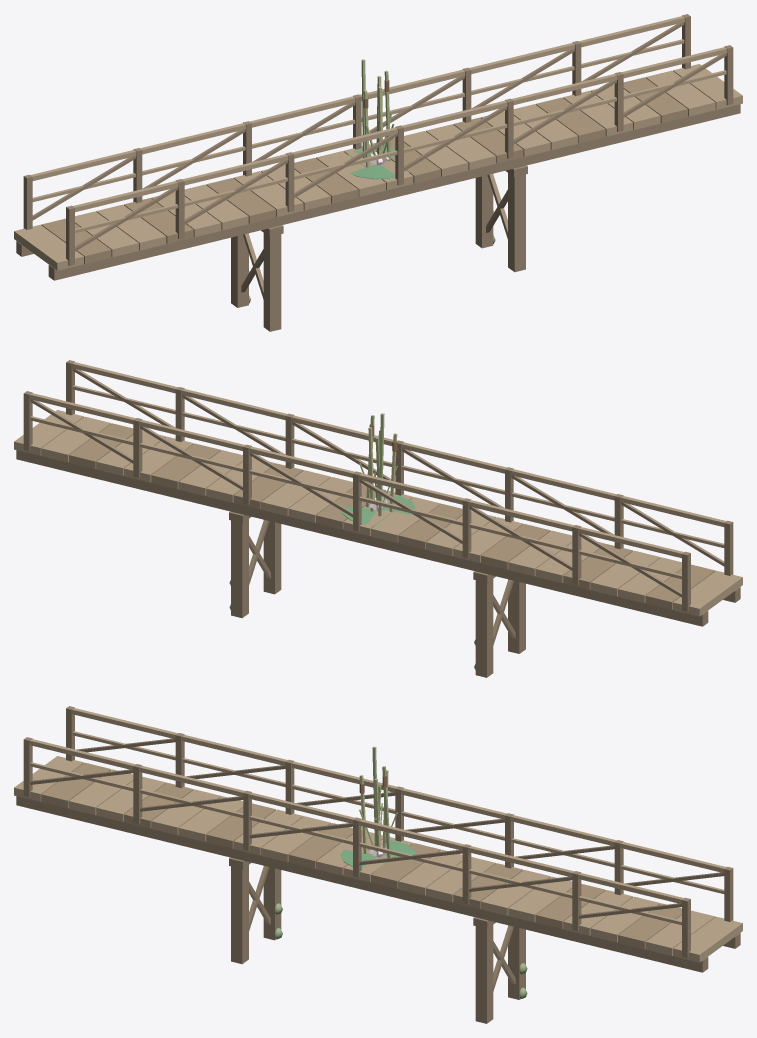
Rendered from farm_waters.glb.
3 views of the same model, one above another, from view 1: azimuth 30°, elevation 25°; view 2: azimuth 150°, elevation 25°; view 3: azimuth 330°, elevation 25° (orthographic).
Visible parts, largest first — view 1: fw_footbridge_mesh, fw_reeds_mesh, fw_lily_mesh; view 2: fw_footbridge_mesh, fw_reeds_mesh, fw_lily_mesh; view 3: fw_footbridge_mesh, fw_reeds_mesh, fw_lily_mesh.
Part boxes in pixels (bbox=[...]): fw_footbridge_mesh: bbox=[14, 14, 742, 331]; fw_reeds_mesh: bbox=[361, 59, 394, 167]; fw_lily_mesh: bbox=[348, 147, 409, 179]; fw_footbridge_mesh: bbox=[14, 360, 742, 677]; fw_reeds_mesh: bbox=[359, 413, 397, 516]; fw_lily_mesh: bbox=[341, 495, 416, 525]; fw_footbridge_mesh: bbox=[14, 706, 742, 1023]; fw_reeds_mesh: bbox=[359, 746, 397, 857]; fw_lily_mesh: bbox=[340, 840, 415, 871].
Bounding box in the file's own units: 14.6 × 4.59 × 1.68.
